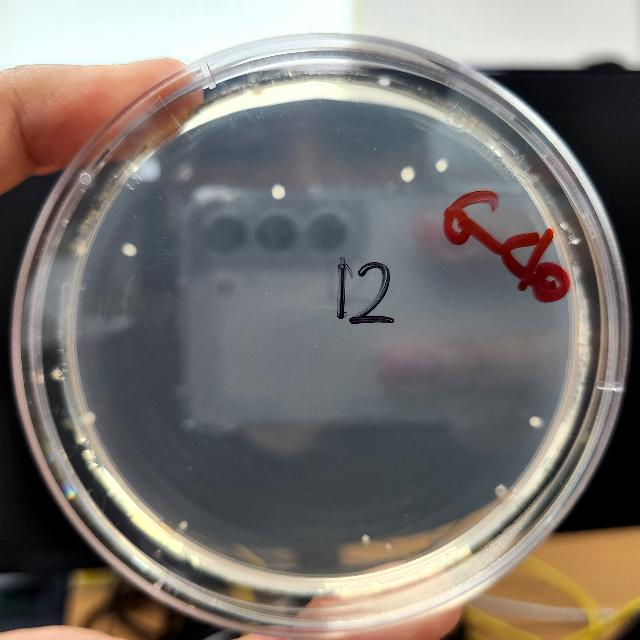colony: (271, 183, 287, 200), (122, 242, 138, 258), (401, 166, 415, 182), (83, 410, 97, 426), (435, 159, 449, 173), (528, 414, 542, 428), (378, 76, 392, 88), (360, 533, 370, 543), (180, 520, 188, 530), (385, 542, 393, 550)
